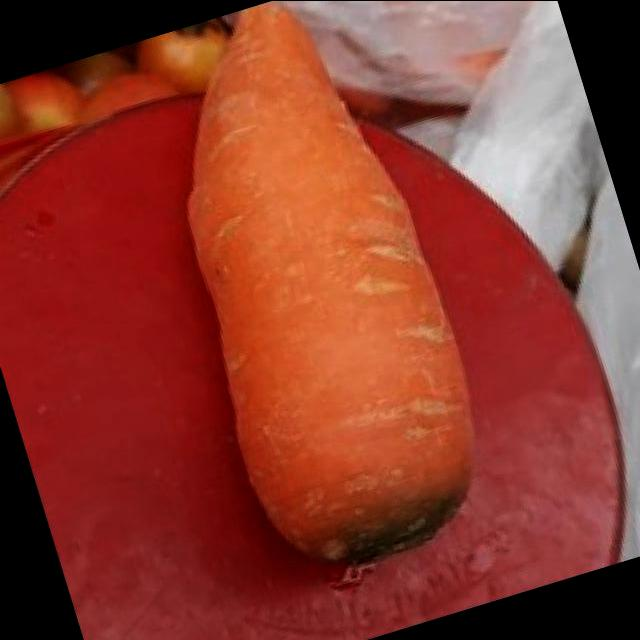carrot: (111, 0, 516, 598)
